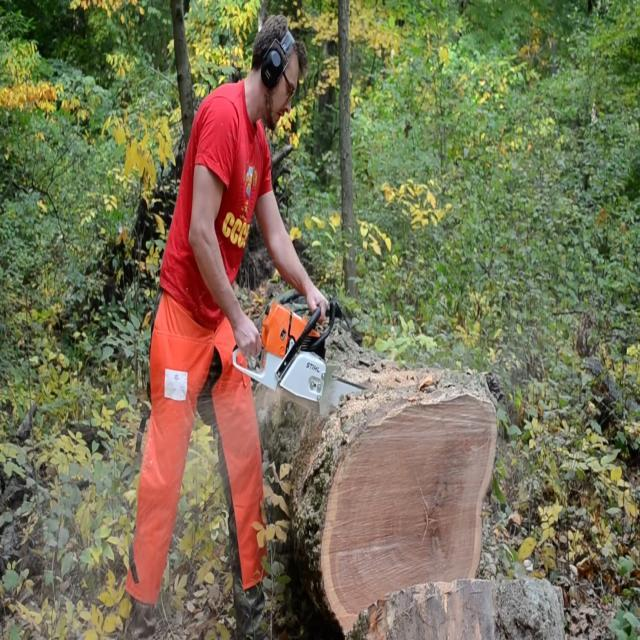Chainsaw: (220, 266, 410, 444)
